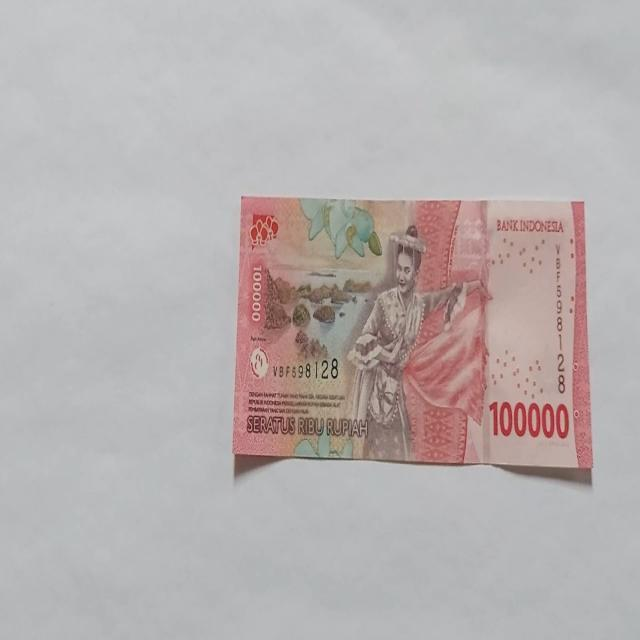seratus ribu rupiah: (232, 195, 592, 476), (344, 223, 468, 462)
